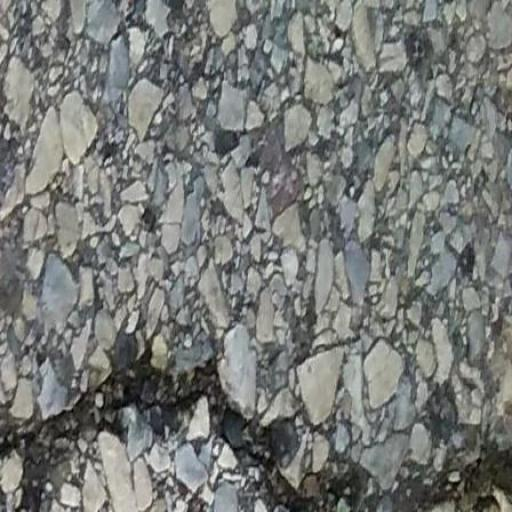spalling: (5, 333, 505, 512)
